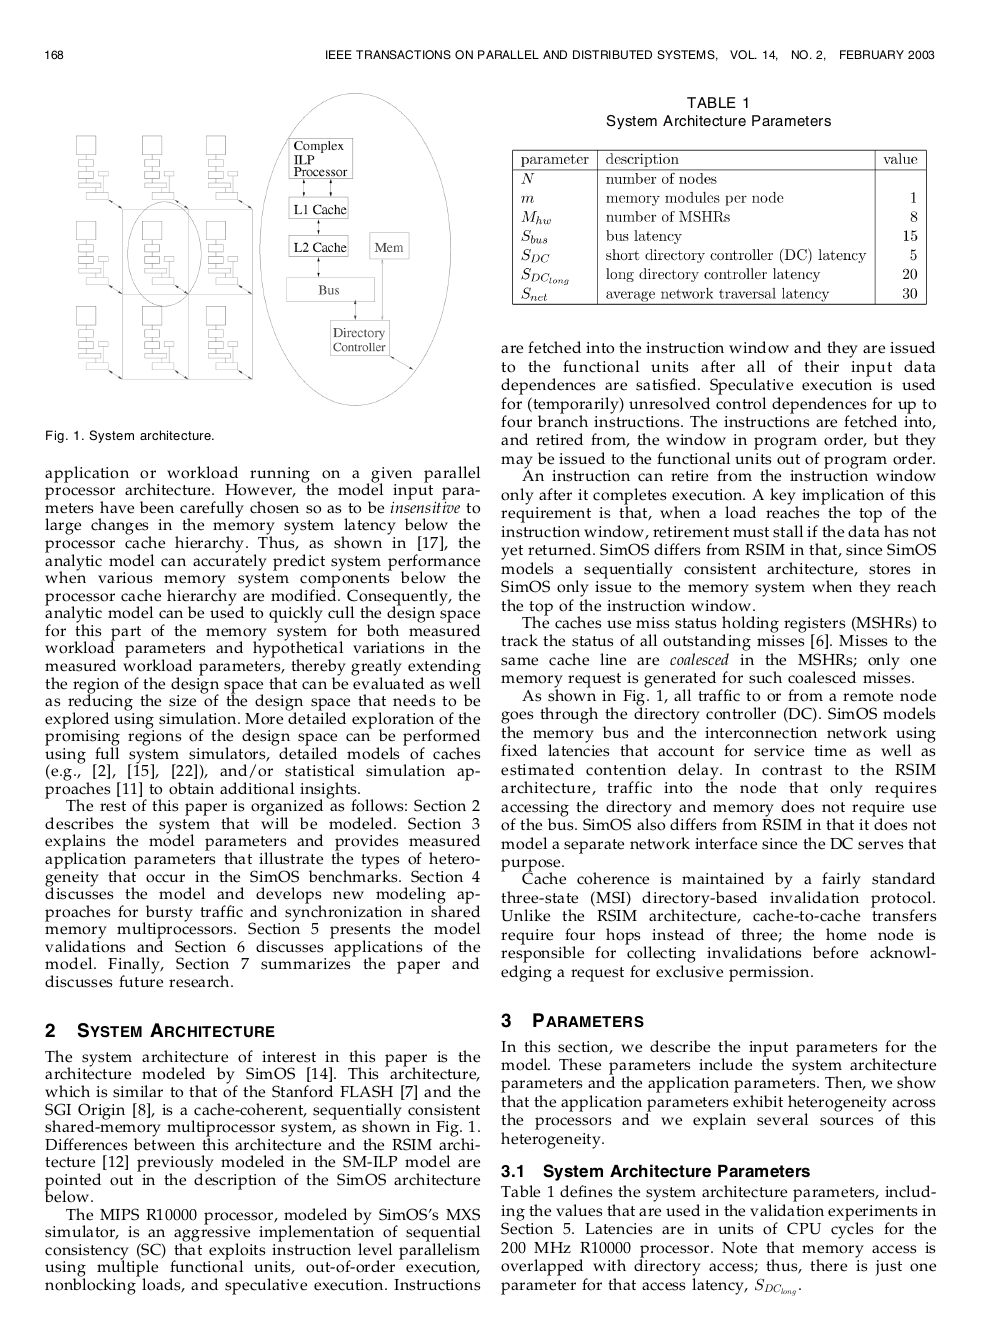Table: (512, 148, 926, 305)
figure: (76, 92, 450, 406)
